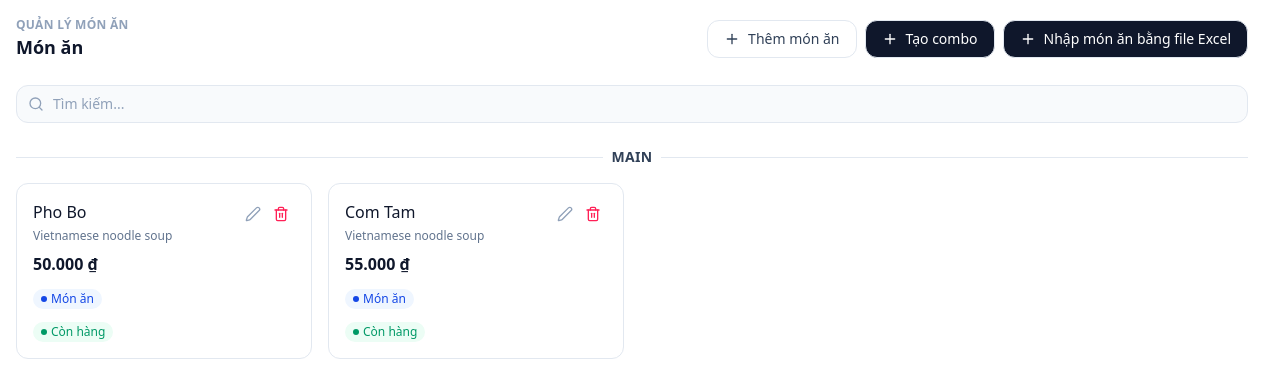
Test: Integration: Tenant Dish Flow › filters dishes by search keyword and shows no-result state
Check: the heading "Pho Bo" is shown, box [33,201,86,223]
Check: the heading "Com Tam" is shown, box [345,201,416,223]
Type "khong-ton-tai" into the field with placeholder "Tìm kiếm..." at {"x": 632, "y": 104}, box [16,85,1248,123]
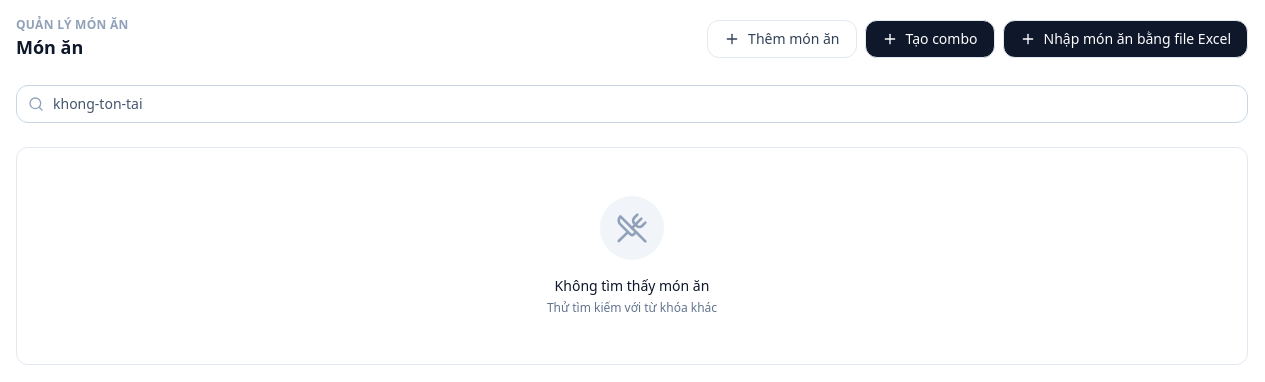
Check: the heading "Không tìm thấy món ăn" is shown, box [555,276,709,296]
Check: the heading "Pho Bo" is gone
Check: the heading "Com Tam" is gone
Clear the field with placeholder "Tìm kiếm..." at {"x": 632, "y": 104}, box [16,85,1248,123]
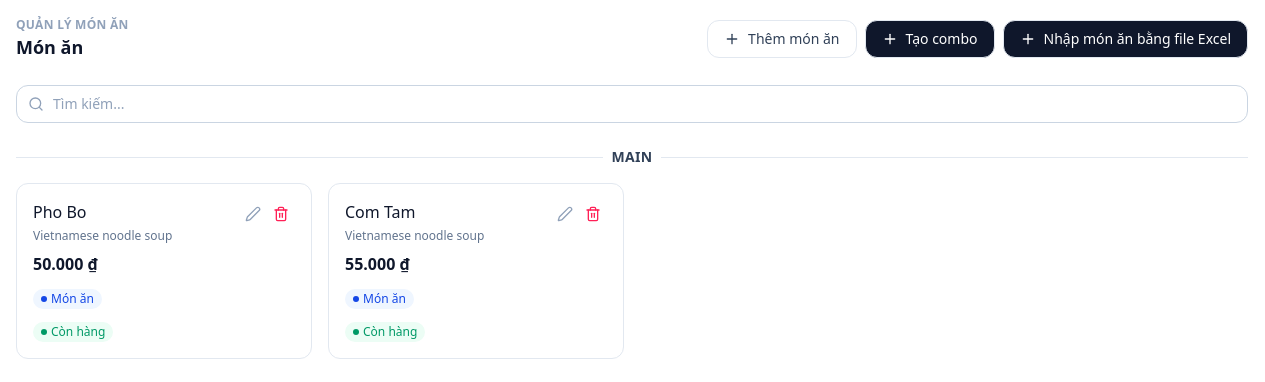
Check: the heading "Pho Bo" is shown, box [33,201,86,223]
Check: the heading "Com Tam" is shown, box [345,201,416,223]
